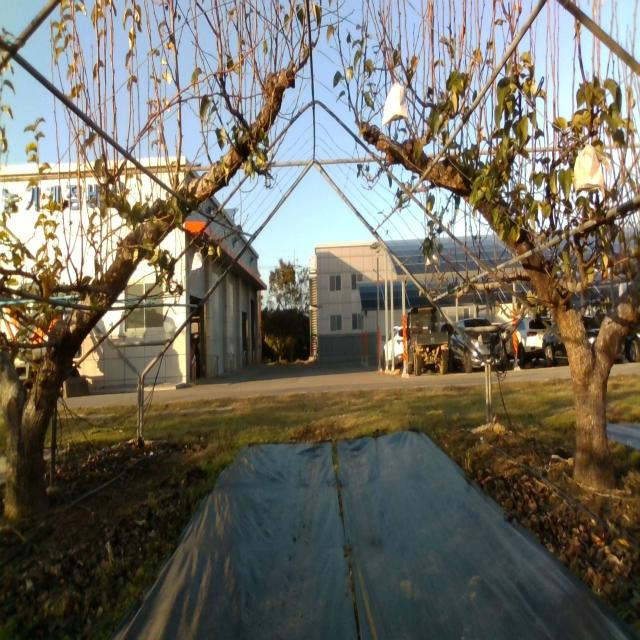pearbags: (573, 143, 604, 200), (381, 72, 409, 128), (424, 246, 440, 267), (191, 250, 203, 270)
